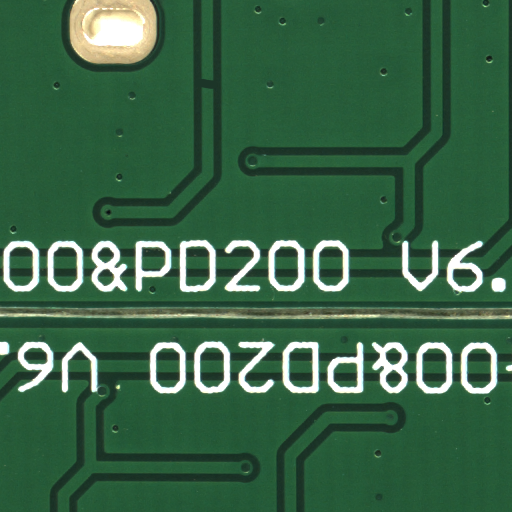Open_circuit: (207, 83, 222, 95)
